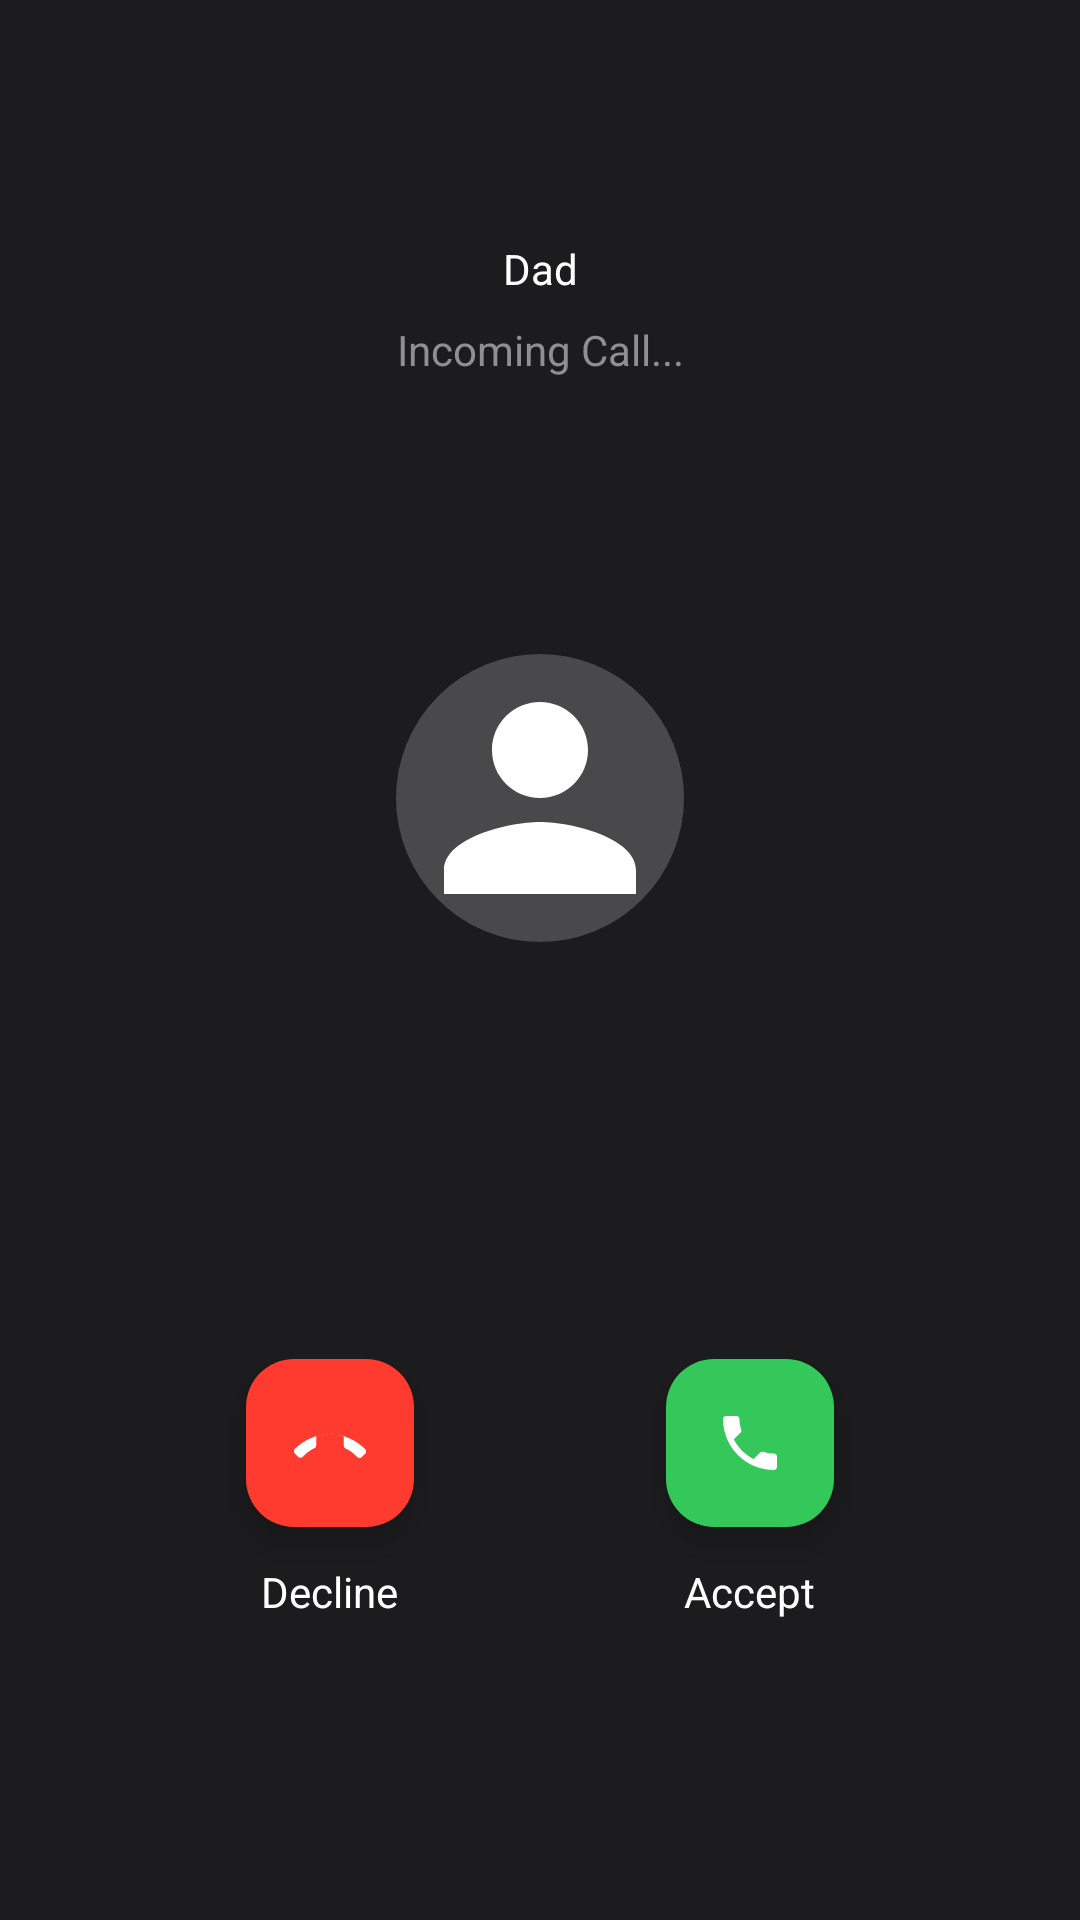

Icons on this 1080px x 1920px Android screen, each with its box as (x1, y1, x2, y2):
call: (666, 1359, 834, 1527)
call end: (246, 1359, 414, 1527)
person: (396, 654, 684, 942)
